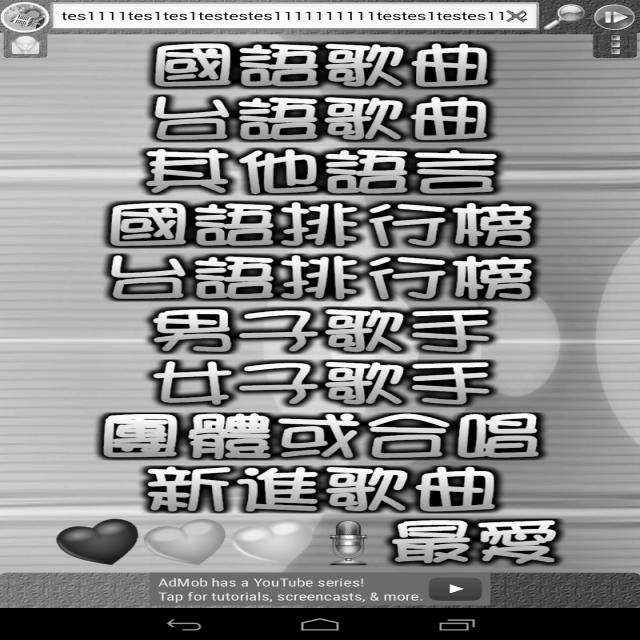EditText: (52, 3, 542, 32)
ImageView: (590, 1, 638, 59), (0, 3, 48, 59), (429, 575, 486, 603), (544, 0, 584, 34)
TextView: (56, 518, 572, 564), (103, 252, 542, 302), (104, 412, 542, 460), (106, 201, 538, 249), (136, 144, 500, 194), (142, 462, 498, 512), (146, 359, 493, 407), (154, 42, 498, 90), (150, 95, 492, 141), (146, 311, 499, 355), (152, 577, 424, 606)
